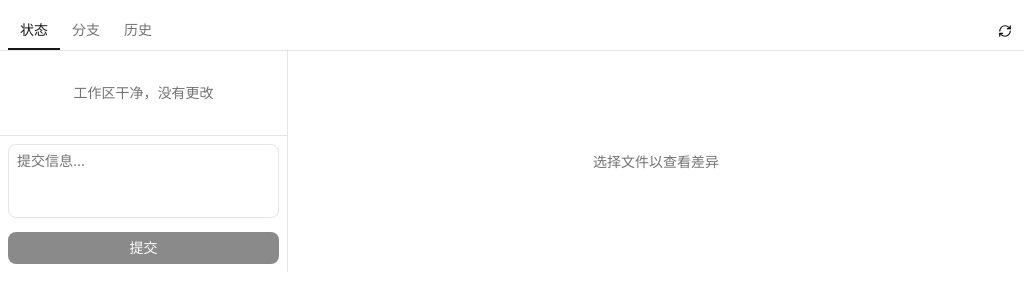
Test: GitPanel › 分支 Tab 显示分支列表
Click the button with test id "tab-branches" at x=86, y=31, box [60,12,112,50]
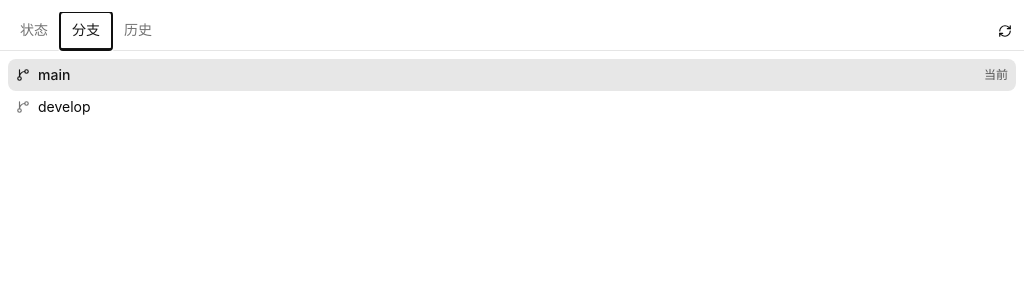
Check: the element with test id "branch-main" is shown, box [8,59,1016,91]
Check: the element with test id "branch-develop" is shown, box [16,98,91,115]
Check: the text "当前" is shown, box [984,67,1008,83]
